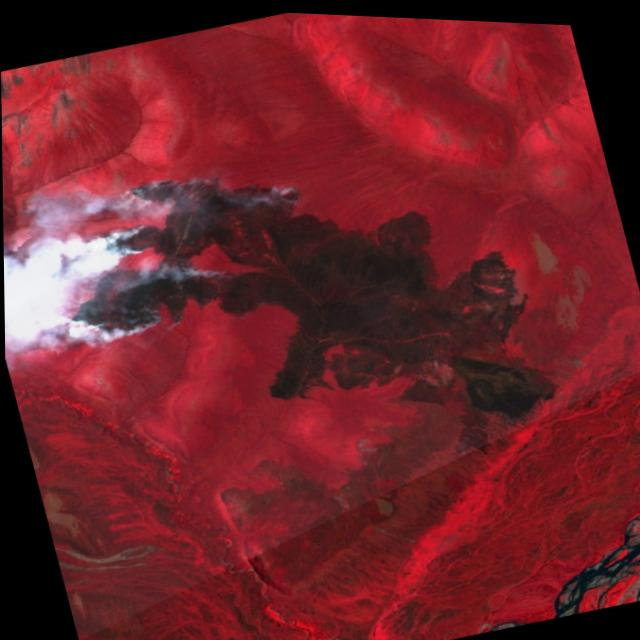fire: (26, 134, 333, 359)
